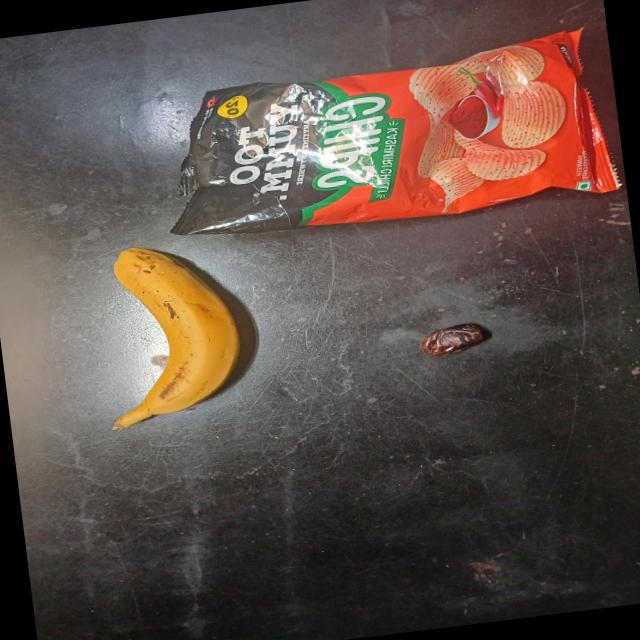Banana-Bio: (68, 233, 256, 434)
Date-Bio: (416, 316, 497, 358)
Plastic-NonBio: (142, 20, 624, 252)
